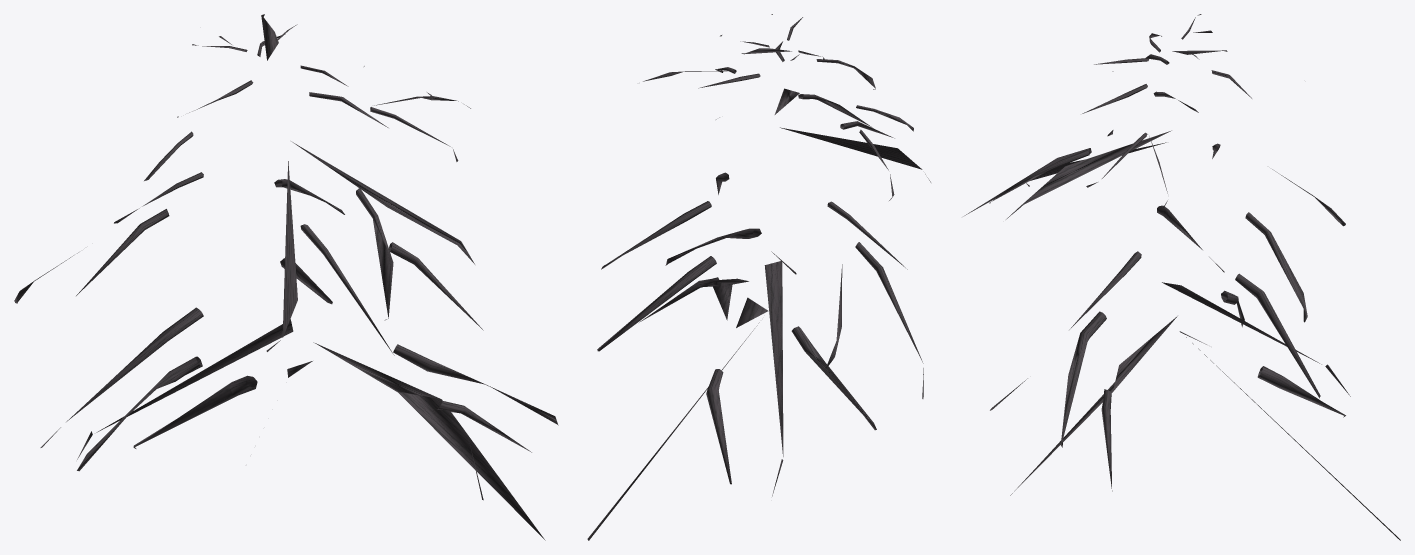
Rendered from dead_3.glb.
3 views of the same model, side by side, from view 1: azimuth 30°, elevation 25°; view 2: azimuth 150°, elevation 25°; view 3: azimuth 270°, elevation 25° (orthographic). The views are drawn at different scales.
Parts seen in each view (by area): view 1: DeadTree_3; view 2: DeadTree_3; view 3: DeadTree_3.
Boxes of the visible parts, x1,y1,x2,y2 form: DeadTree_3: (14,14,558,540); DeadTree_3: (587,14,930,540); DeadTree_3: (963,14,1400,540).
Bounding box in the file's own units: 5.88 × 7.33 × 6.41.
Materials: 1 (1 with a texture image).
